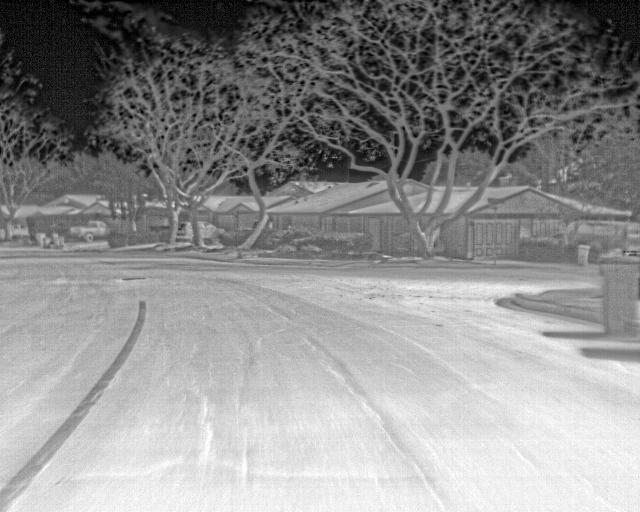car: (565, 218, 639, 261), (70, 219, 106, 242), (201, 223, 219, 245), (176, 221, 192, 243)
